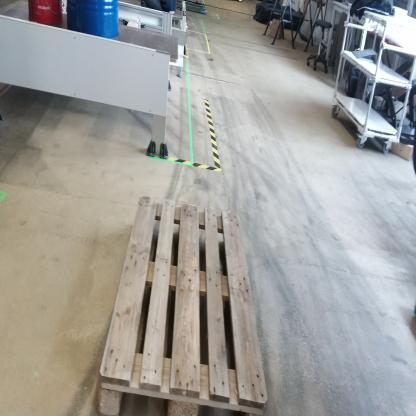BoxFace: (94, 187, 273, 416)
